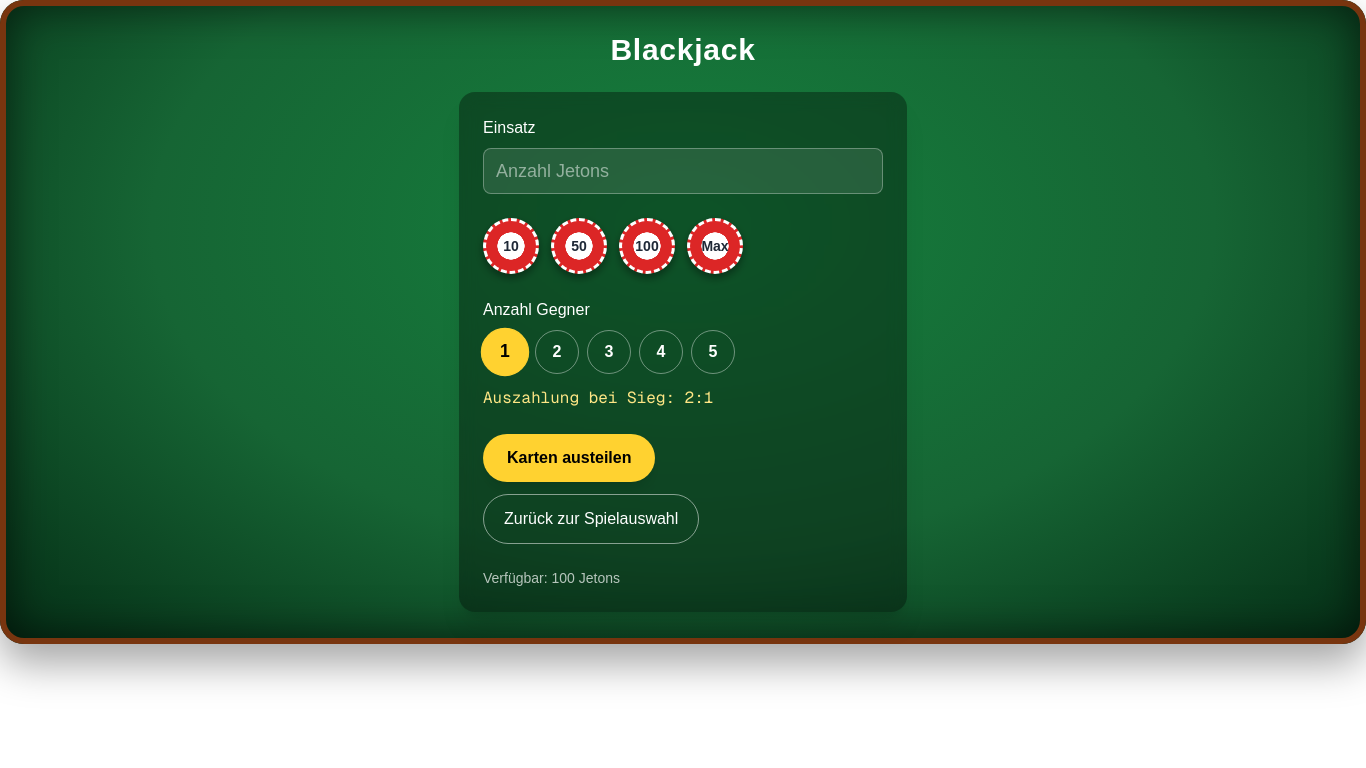
Test: BlackjackGame: Einsatz und Gegnerzahl › uebernimmt den Einsatz per Schnellwahl
Click the button named "Einsatz 50" at (579, 246), box [551,218,607,274]
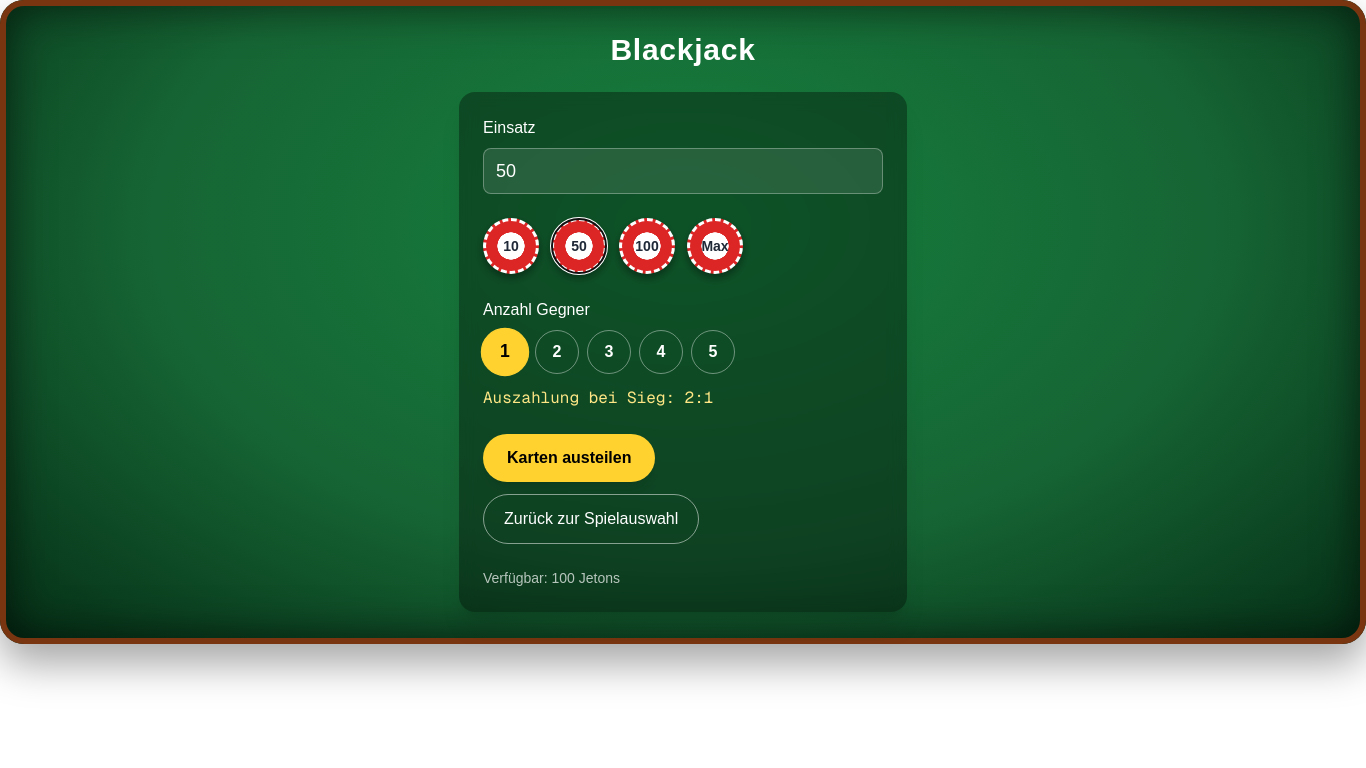
Expected: the field labelled "Einsatz" holds "50", [483,148,883,194]
